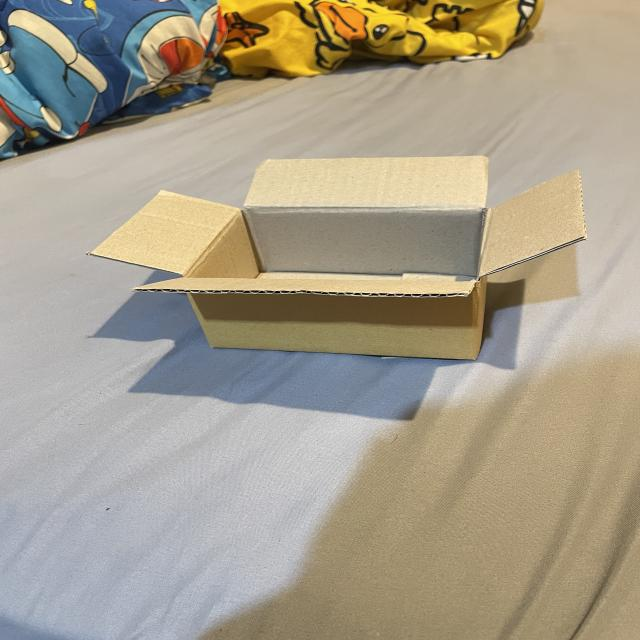box: (85, 157, 590, 362)
opened: (84, 155, 589, 299)
